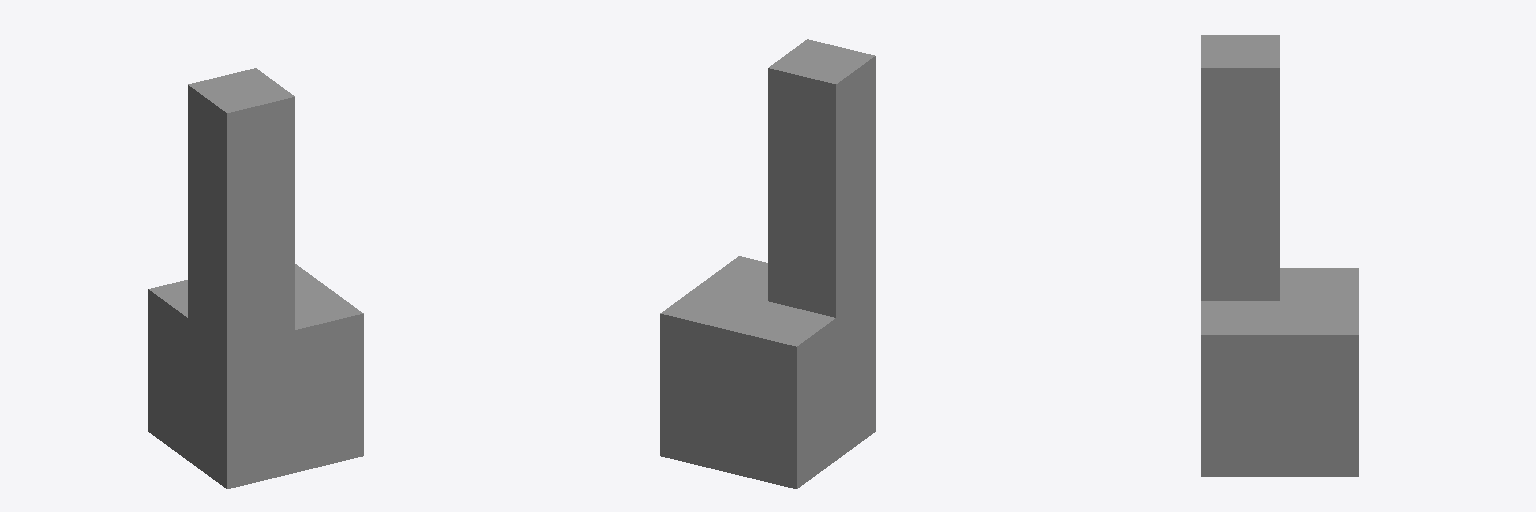
File: simple_building3.obj
The picture shows the model from 3 angles: view 1: azimuth 30°, elevation 25°; view 2: azimuth 150°, elevation 25°; view 3: azimuth 270°, elevation 25°; orthographic projection.
Visible parts, largest first — view 1: Cube; view 2: Cube; view 3: Cube.
Part boxes in pixels (left/top/right/bottom): Cube: left=148, top=68, right=363, bottom=488; Cube: left=660, top=39, right=875, bottom=488; Cube: left=1201, top=35, right=1358, bottom=476.
Size of the model in its own units: 2 by 5.27 by 2.